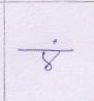anusvara: (53, 39, 57, 43)
